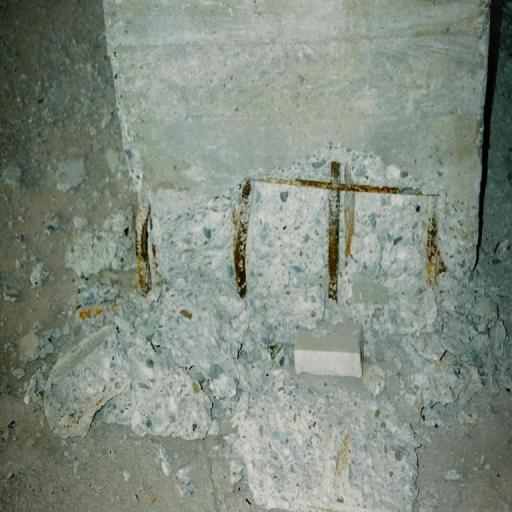spalling: (135, 140, 453, 311)
